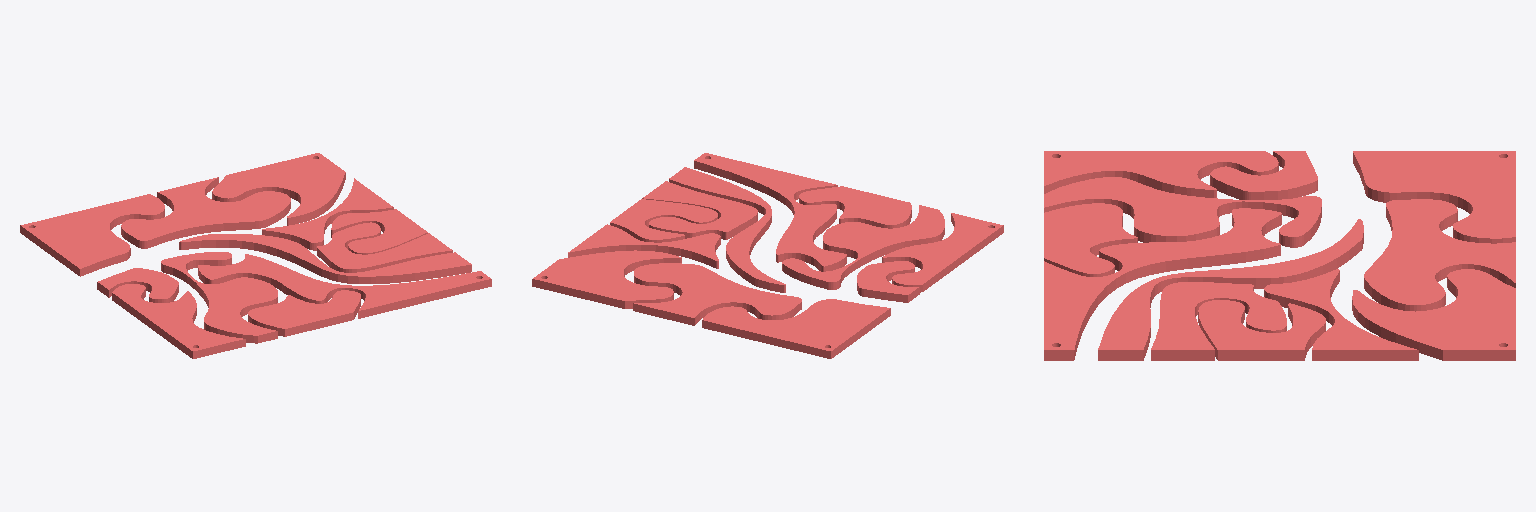
URDF robot description (flat_model):
<?xml version="1.0" encoding="utf-8"?>
<!-- This URDF was automatically created by SolidWorks to URDF Exporter! Originally created by [author] ([email redacted]) 
     Commit Version: 1.5.1-0-g916b5db  Build Version: 1.5.7152.31018
     For more information, please see http://wiki.ros.org/sw_urdf_exporter -->
<robot
  name="flat_model">

  <material name="color">
  <color rgba="1 0.5 0.5 1"/>
  </material>

  <link
    name="2d_model">
    <inertial>
      <origin
        xyz="0 0 0"
        rpy="0 0 0" />
      <mass
        value="0" />
      <inertia
        ixx="0"
        ixy="0"
        ixz="0"
        iyy="0"
        iyz="0"
        izz="0" />
    </inertial>
    <visual>
      <origin
        xyz="0 0 0"
        rpy="0 0 0" />
      <geometry>
        <mesh
          filename="package://sofa_valid/mesh/flat_model_vessels.stl" 
          scale="0.001 0.001 0.001"/>
      </geometry>
      <material name="color" />
    </visual>
  </link>

</robot>

--- Facts derived from the render (not from the file) ---
3 views of the same robot in one strip: view 1: azimuth 30°, elevation 25°; view 2: azimuth 150°, elevation 25°; view 3: azimuth 270°, elevation 25° (orthographic).
Model flat_model with 1 links and 0 joints (none), rooted at 2d_model, posed every joint at zero.
Links seen in each view (by area): view 1: 2d_model; view 2: 2d_model; view 3: 2d_model.
Boxes of the visible links, x1=… form: 2d_model: x1=20, y1=153, x2=491, y2=358; 2d_model: x1=532, y1=153, x2=1003, y2=358; 2d_model: x1=1044, y1=151, x2=1515, y2=360.
Bounding box of the posed robot: 0.2 × 0.2 × 0.005 m (x, y, z).
1 mesh visuals loaded from 1 distinct referenced files (1 binary STL).